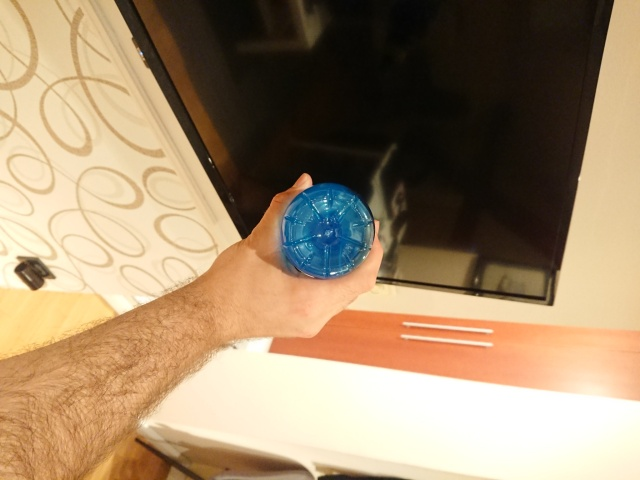Vindi Iso Sport Forest Strawberries 500mL: (278, 180, 377, 282)
